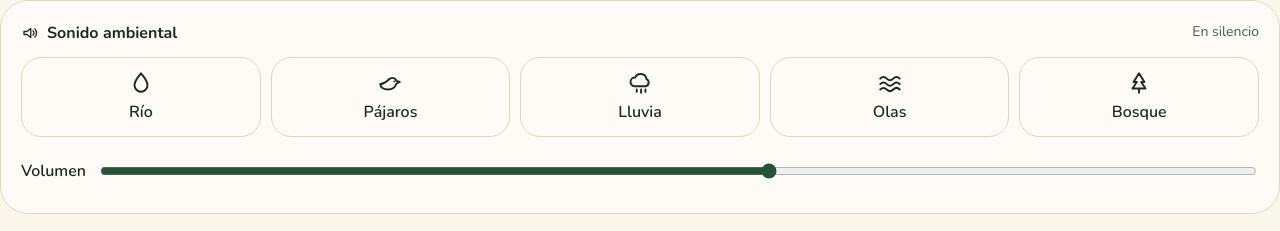
Test: SelectorSonido › reproduce el sonido elegido y lo anuncia
Click the button "Lluvia": click(640, 97) [520, 57, 760, 137]
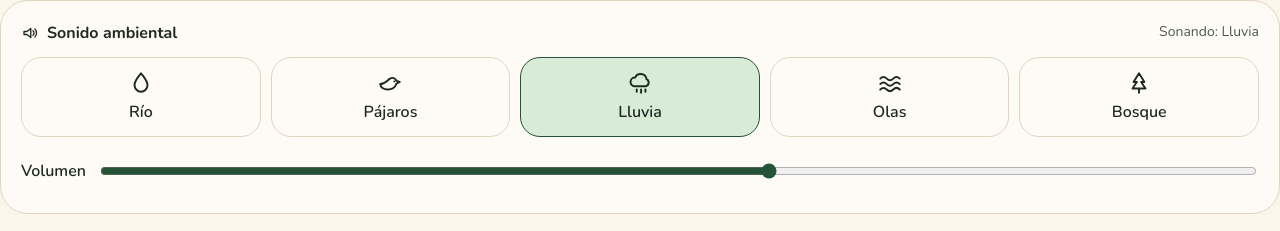
Expected: the text "Sonando: Lluvia" is shown, [1159, 21, 1259, 42]
